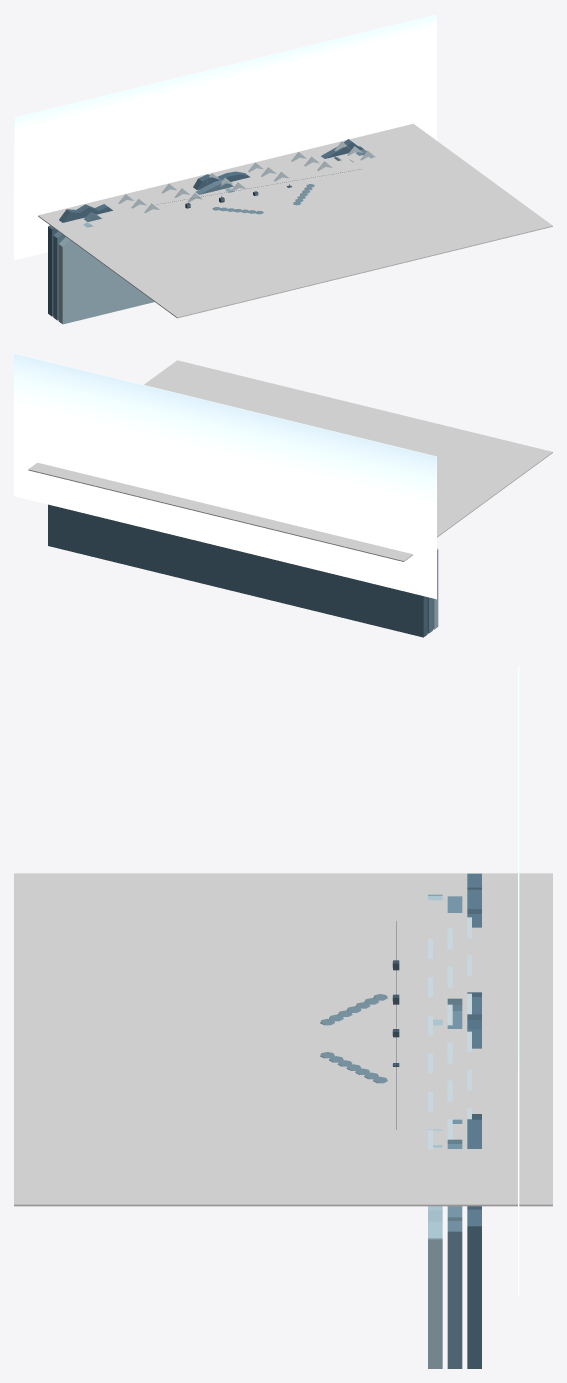
The model's file is skistation.glb.
3 renders of one model, top to bottom at view 1: azimuth 30°, elevation 25°; view 2: azimuth 150°, elevation 25°; view 3: azimuth 270°, elevation 25°, orthographic. The views are drawn at different scales.
Parts seen in each view (by area): view 1: Ground contact / transparent shadow receiver.063, Sky gradient / editable material.063, World / terrain and architecture.026; view 2: Sky gradient / editable material.063, Ground contact / transparent shadow receiver.063, World / terrain and architecture.026; view 3: Ground contact / transparent shadow receiver.063, World / terrain and architecture.026, Sky gradient / editable material.063, Foreground / edge details.024.
Part boxes in pixels (x1,y1,x2,y2): Ground contact / transparent shadow receiver.063: (38, 123, 552, 318); Sky gradient / editable material.063: (14, 14, 436, 260); World / terrain and architecture.026: (48, 139, 375, 324); Sky gradient / editable material.063: (14, 353, 436, 599); Ground contact / transparent shadow receiver.063: (28, 360, 552, 561); World / terrain and architecture.026: (48, 504, 438, 637); Ground contact / transparent shadow receiver.063: (14, 873, 552, 1206); World / terrain and architecture.026: (393, 873, 481, 1368); Sky gradient / editable material.063: (518, 666, 519, 1296); Foreground / edge details.024: (320, 994, 387, 1083).
Bounding box in the file's own units: 180 × 79 × 110.
